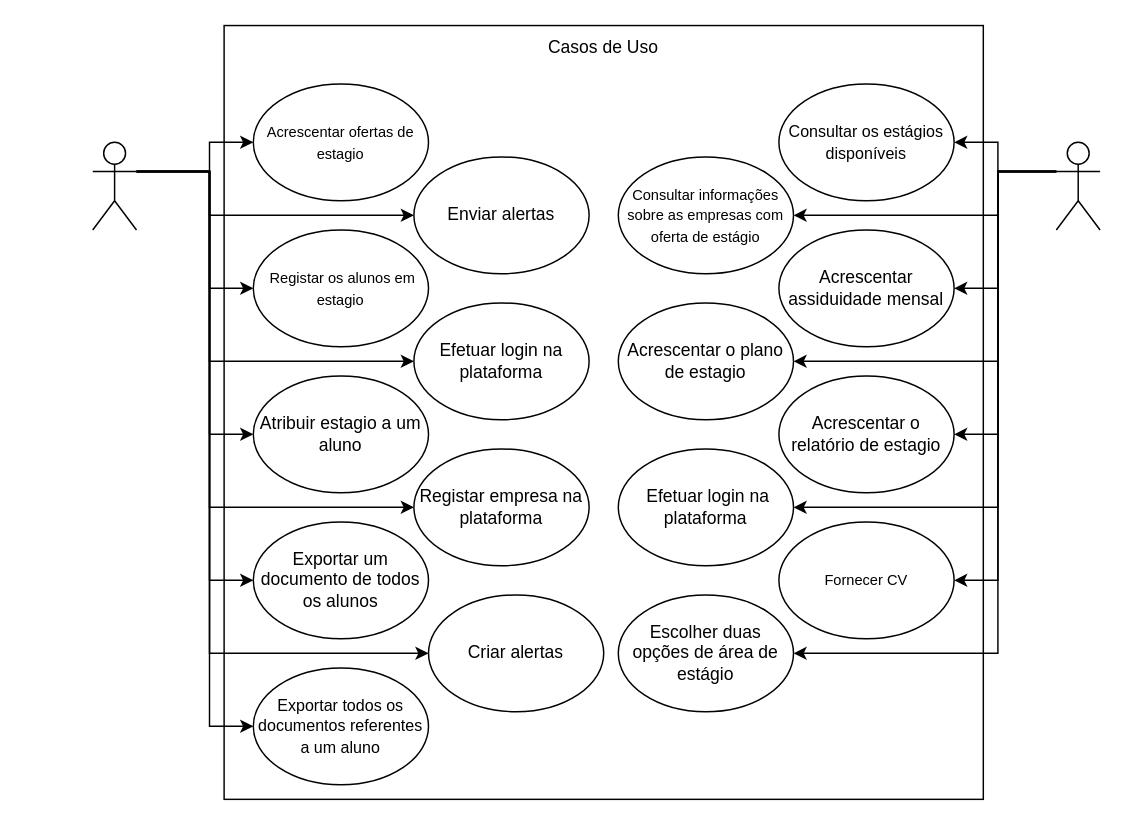
This 1126x825 diagram has some shape labels left out. Here are the shapes that lost their labels. From the top down, the box of each, then its label:
(91, 141, 137, 230): Coordenador de Curso
(1055, 141, 1100, 230): Aluno
